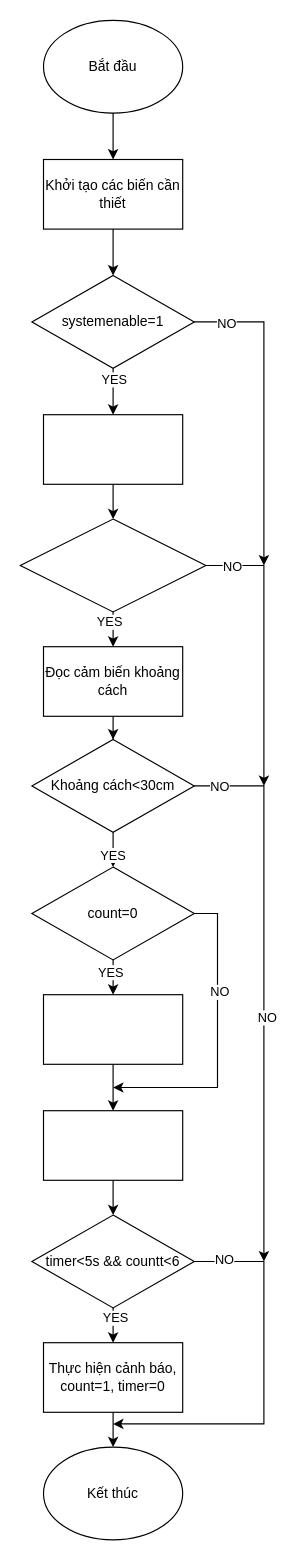
Some shapes in this 297 by 1560 pixel diagram are drawn without their labels. Here are the shapes that lost their labels. From the top down, the centre of each, then its label:
At (112,449): "Đọc cảm biến chuyển động".
At (112,565): "Có chuyển động hay không?".
At (112,1029): "timer=0".
At (112,1145): "count++, thực hiện tính timer".
